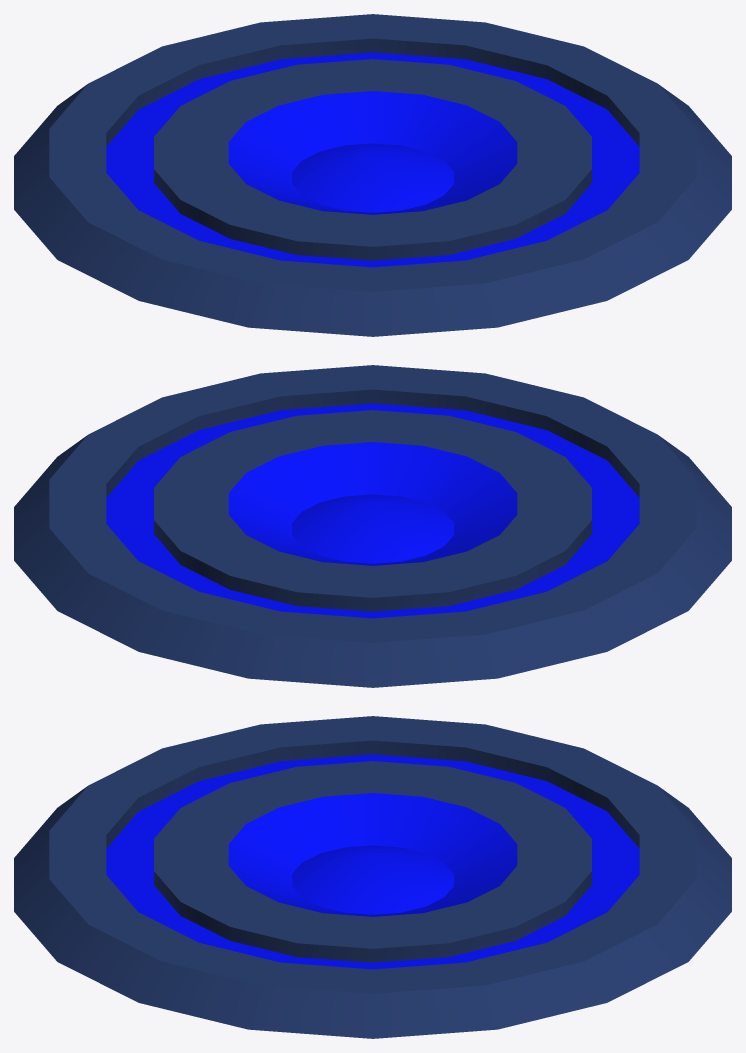
The model's file is TankBase.FBX.
3 renders of one model, top to bottom at view 1: azimuth 30°, elevation 25°; view 2: azimuth 150°, elevation 25°; view 3: azimuth 270°, elevation 25°, orthographic.
Visible parts, largest first — view 1: Base; view 2: Base; view 3: Base.
Boxes of the visible parts, x1,y1,x2,y2 form: Base: (14, 14, 731, 336); Base: (14, 365, 731, 687); Base: (14, 716, 731, 1038).
Bounding box in the file's own units: 95.49 × 4.32 × 94.04.
